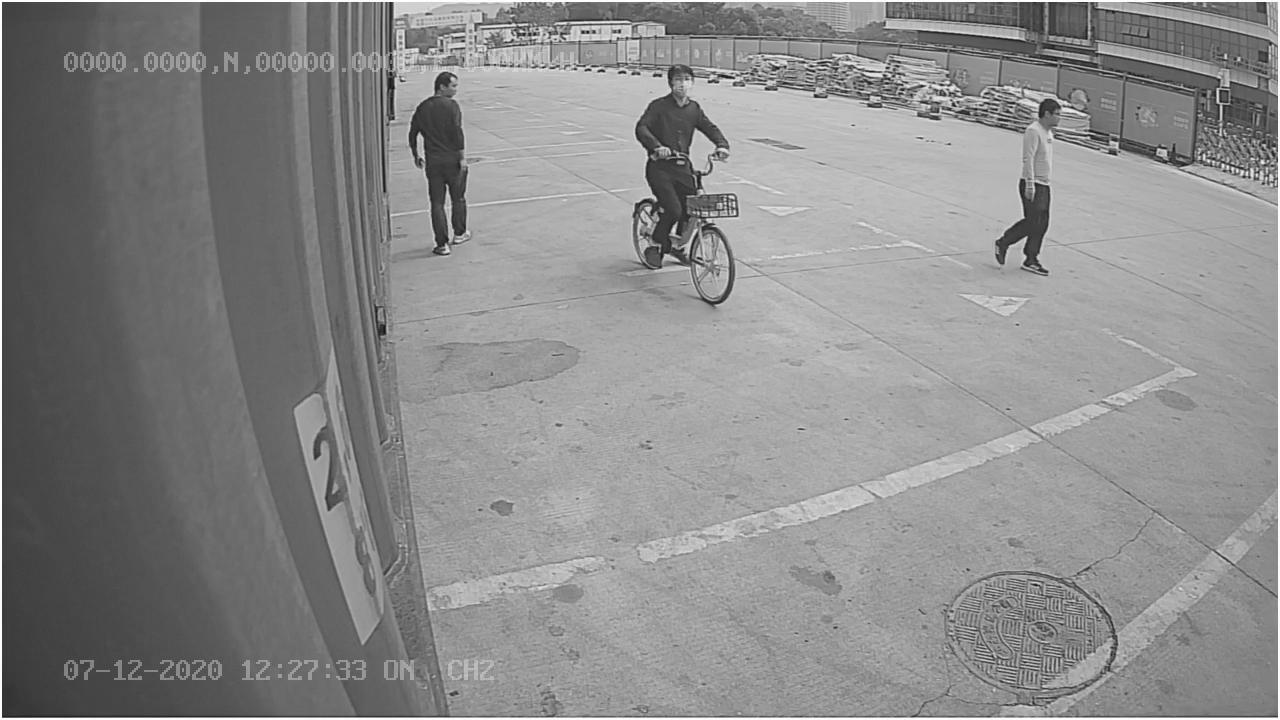person: (405, 65, 477, 262)
